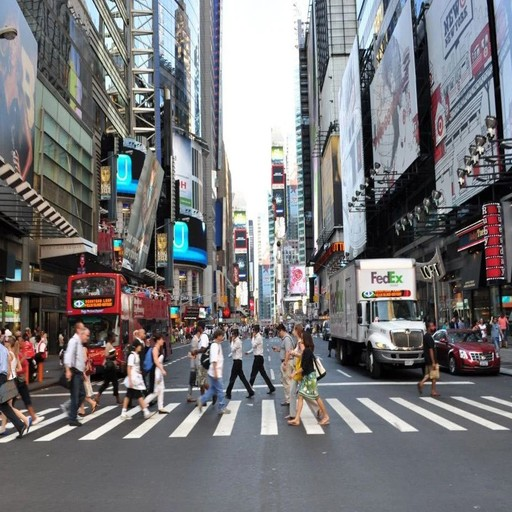Car: (430, 324, 504, 378)
Pedestrian: (286, 327, 334, 427), (59, 318, 89, 430), (197, 327, 233, 417), (220, 325, 258, 400), (142, 335, 171, 415), (416, 321, 443, 398)
Truck: (326, 256, 431, 378)
